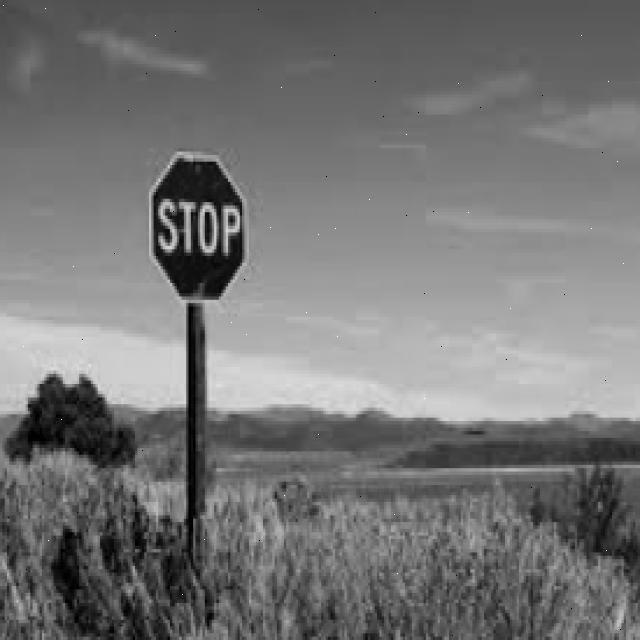Stop-signs: (149, 153, 247, 301)
